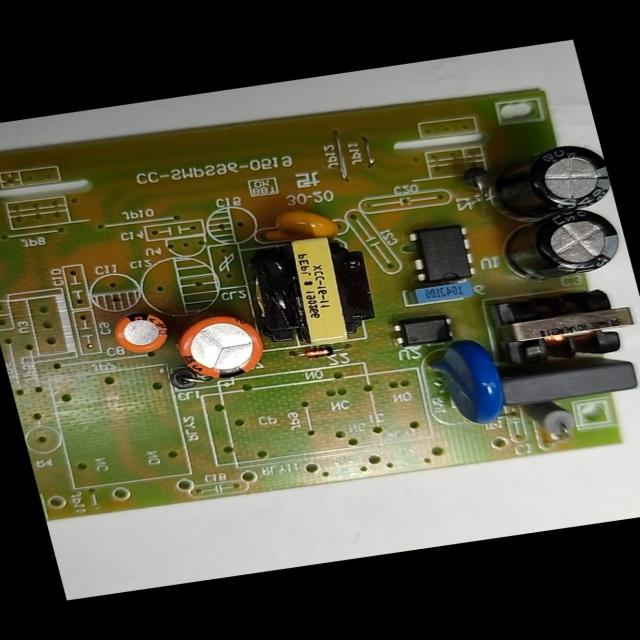Cap1: (168, 312, 272, 387)
Cap2: (104, 308, 177, 358)
Cap3: (496, 208, 629, 286)
Cap4: (478, 142, 614, 220)
MOSFET: (403, 223, 481, 286)
Mov: (415, 338, 512, 433)
Resistor: (518, 397, 579, 442)
Transformer: (242, 230, 385, 353), (486, 282, 640, 374)
